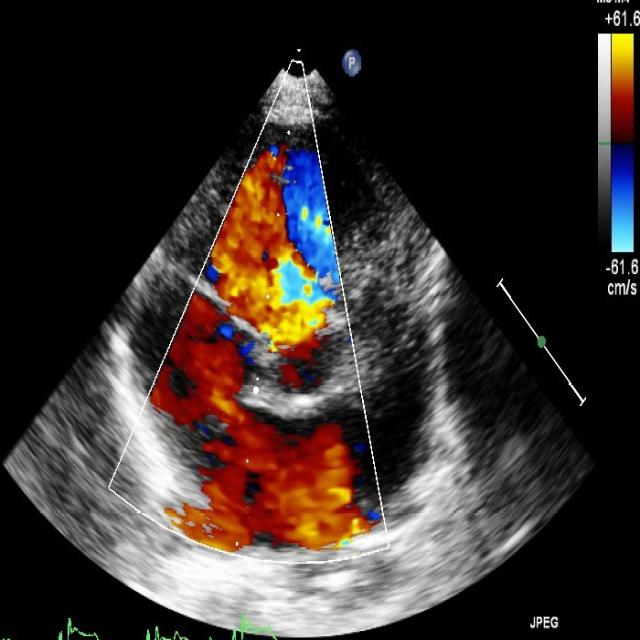VSDType2: (260, 250, 340, 388)
